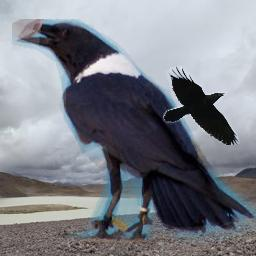Crow: (12, 19, 256, 242), (163, 65, 240, 145)
